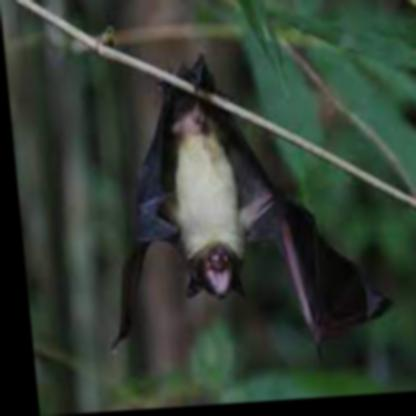Bat: (82, 48, 396, 365)
